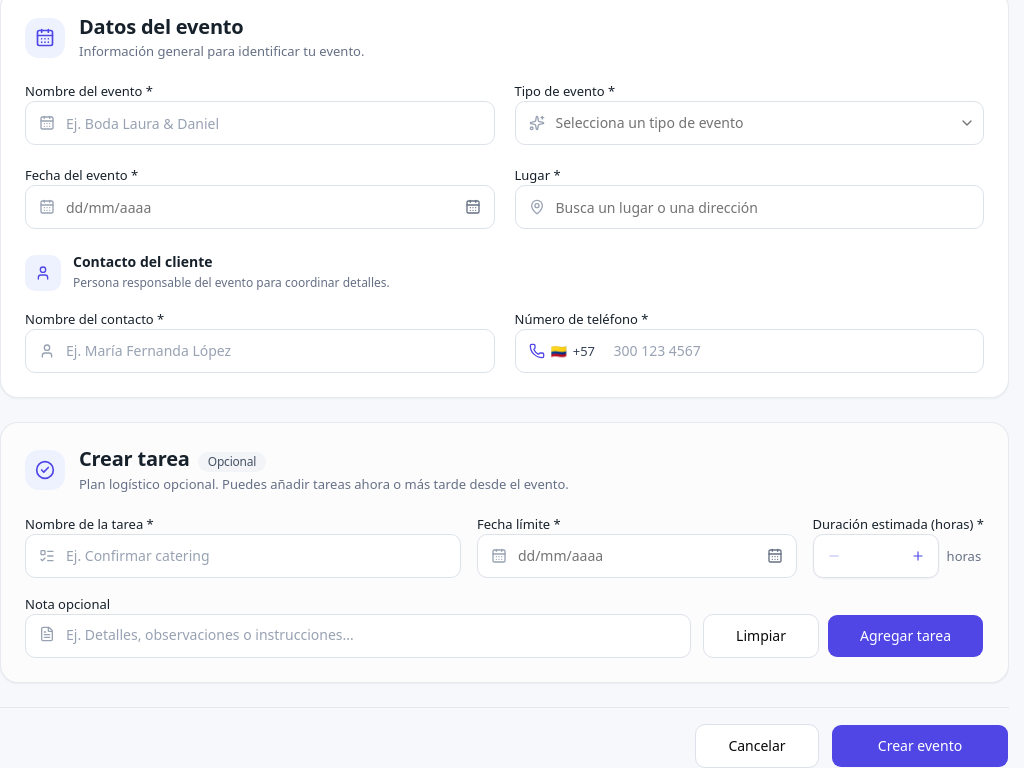
Test: EventForm › muestra los errores obligatorios y no envía un formulario vacío
(page scrolled)
Step 1. Click the button "Crear evento" → [920, 746], box top-left (831, 724), bottom-right (1009, 767)
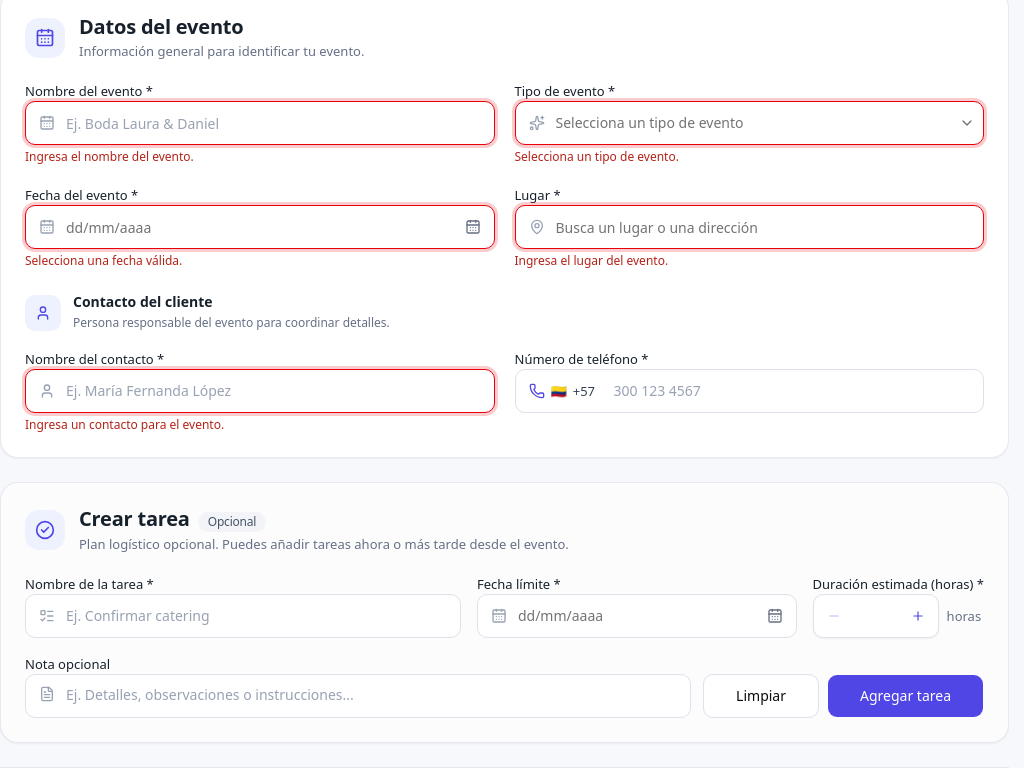
Expected: the text "Ingresa el nombre del evento." is shown, top-left (25, 148), bottom-right (194, 165)
Expected: the text "Selecciona un tipo de evento." is shown, top-left (514, 148), bottom-right (679, 165)
Expected: the text "Selecciona una fecha válida." is shown, top-left (25, 252), bottom-right (182, 269)
